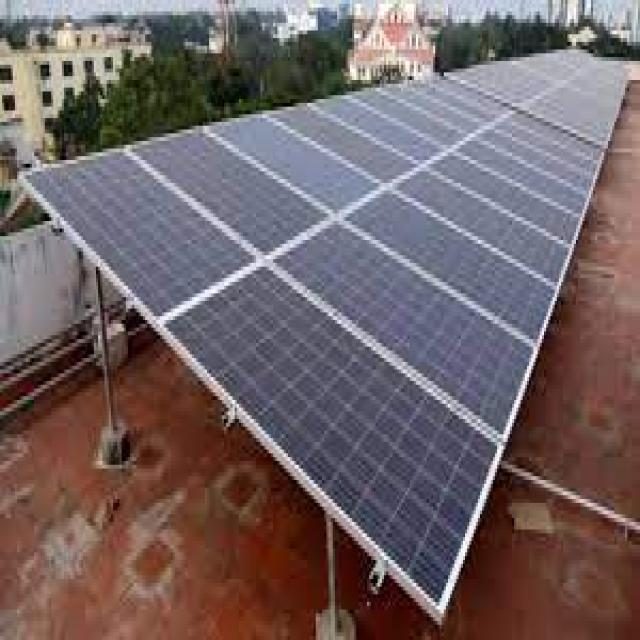clean-solar-panel: (21, 51, 626, 622)
